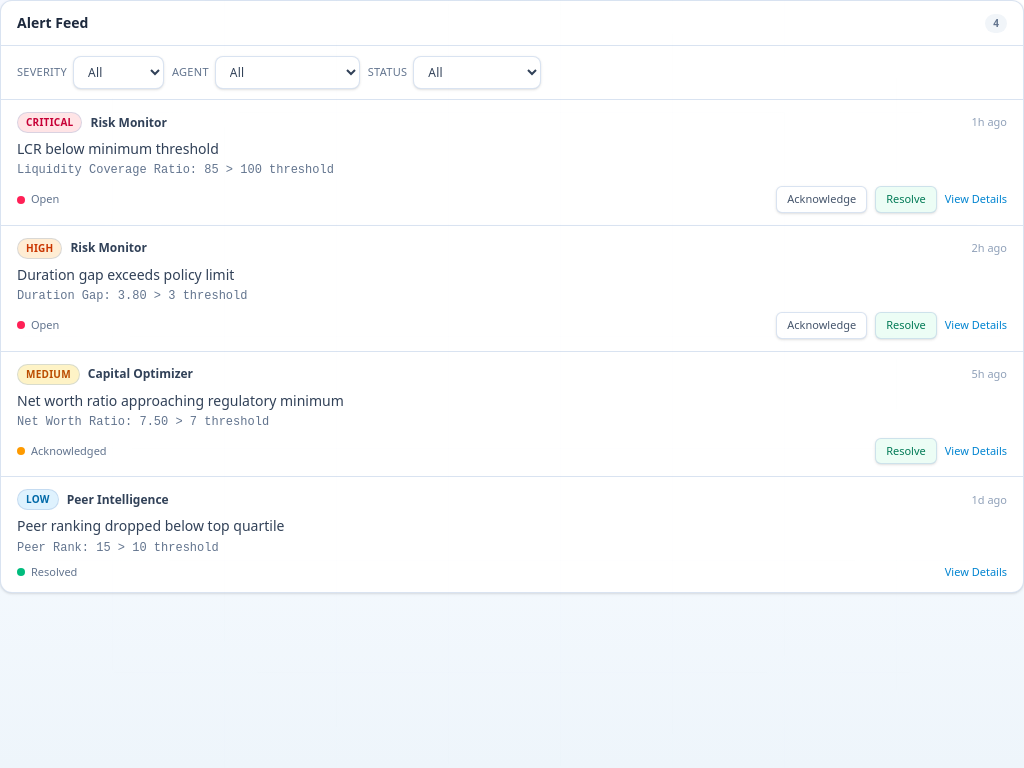
Test: AlertFeed › filters by status
Note: Filter to ACKNOWLEDGED
Select "Acknowledged" in the dropdown labelled "Status" at (477, 72), box [413,56,541,89]
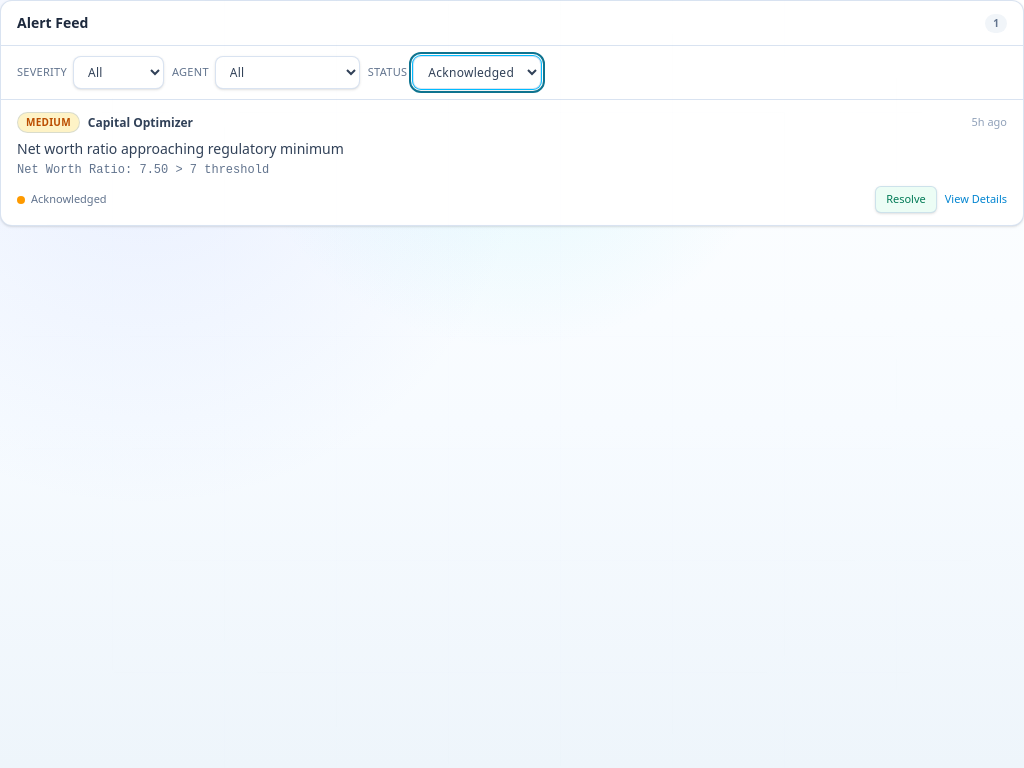
Expected: the text "Medium" is shown, [17,112,80,133]
Expected: the number of elements with test id "alert-row" is 1, [1,100,1023,225]
